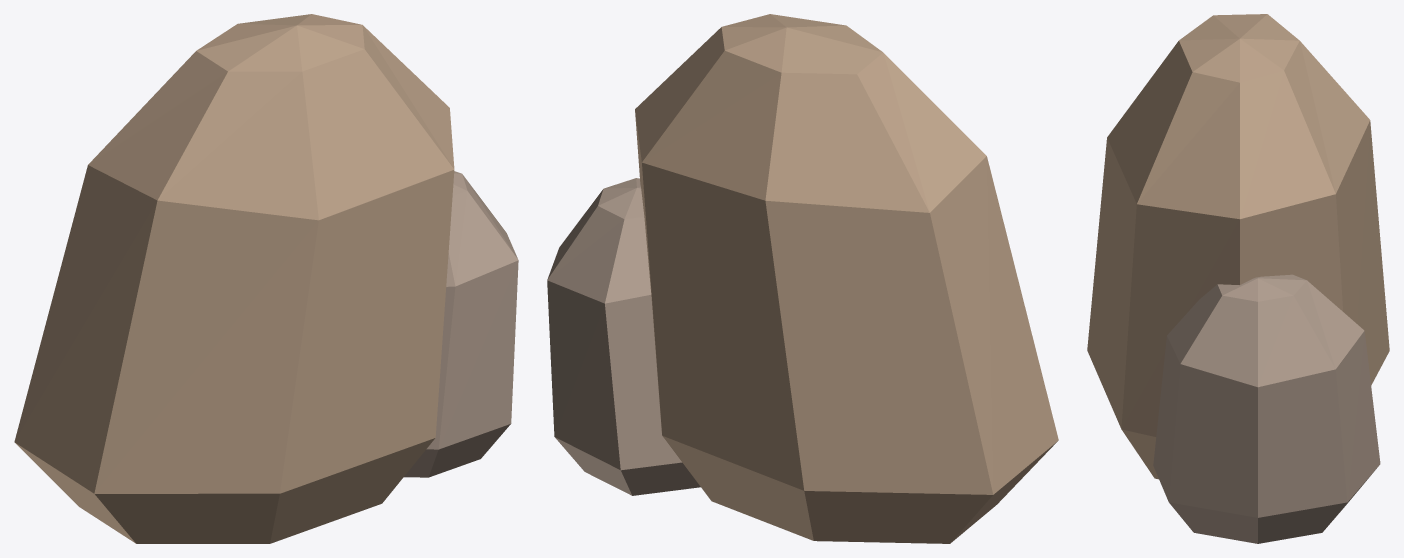
The picture shows the model from 3 angles, left to right: view 1: azimuth 30°, elevation 25°; view 2: azimuth 150°, elevation 25°; view 3: azimuth 270°, elevation 25°; orthographic projection. The views are drawn at different scales.
Parts seen in each view (by area): view 1: R08; view 2: R08; view 3: R08.
Boxes of the visible parts, x1,y1,x2,y2 form: R08: (14,14,518,543); R08: (547,14,1058,543); R08: (1087,14,1389,543).
Size of the model in its own units: 1.39 by 1.29 by 0.8407.
